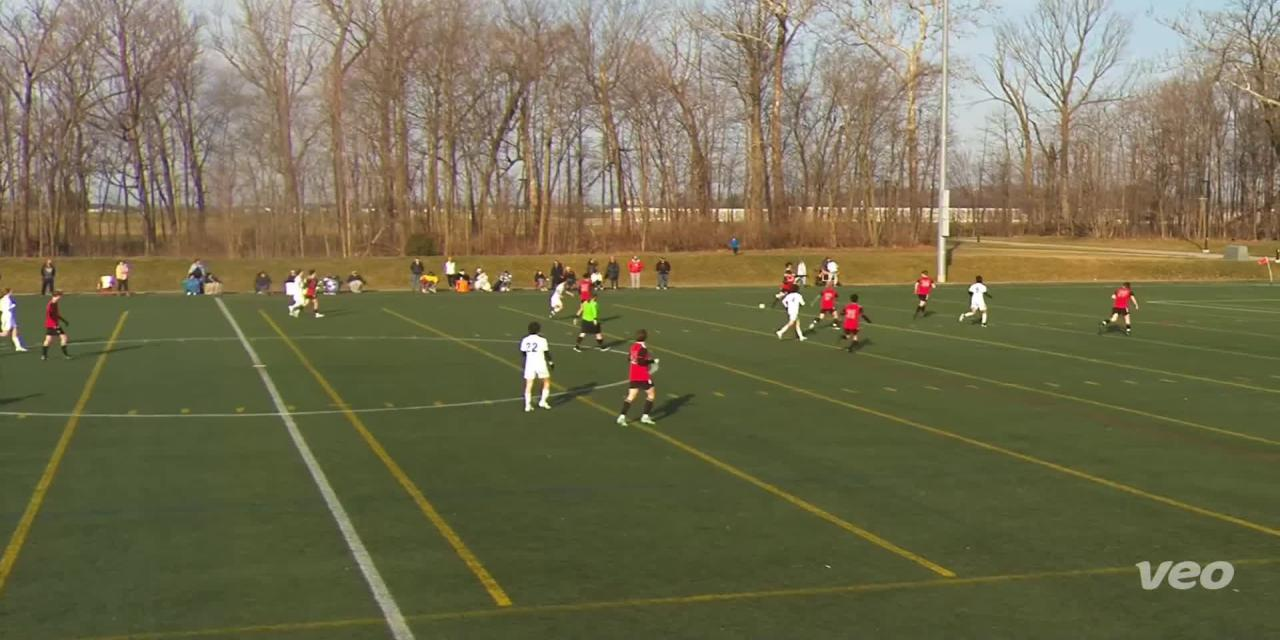sports ball: (757, 299, 767, 311)
